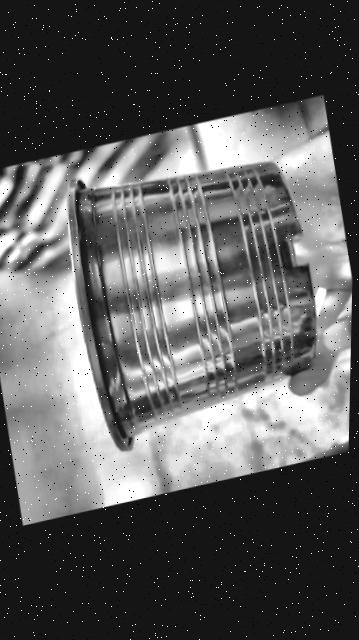pot: (67, 164, 315, 451)
